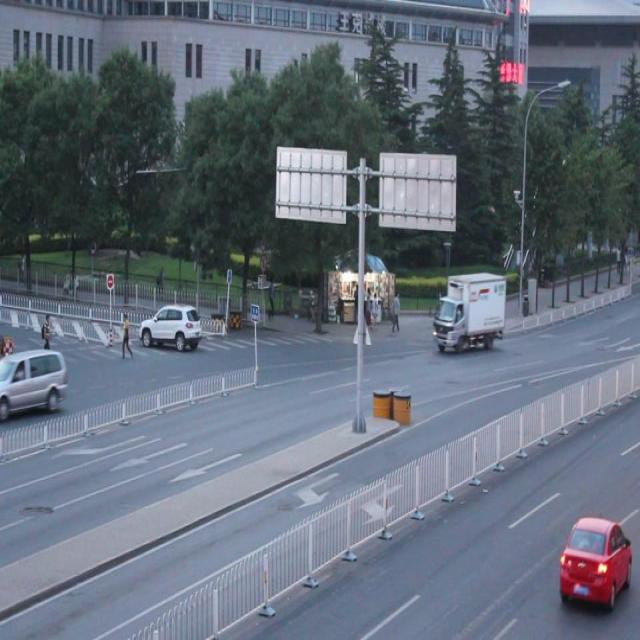bus: (434, 272, 505, 354)
car: (556, 513, 630, 606), (1, 348, 66, 419), (138, 302, 201, 350)
